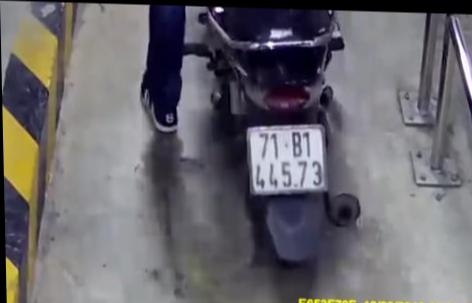LP: (245, 120, 331, 197)
